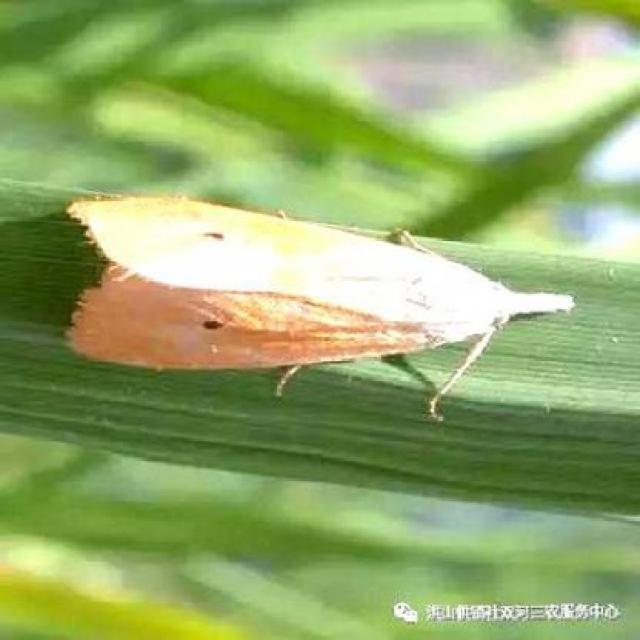stem-borer: (59, 192, 578, 408)
